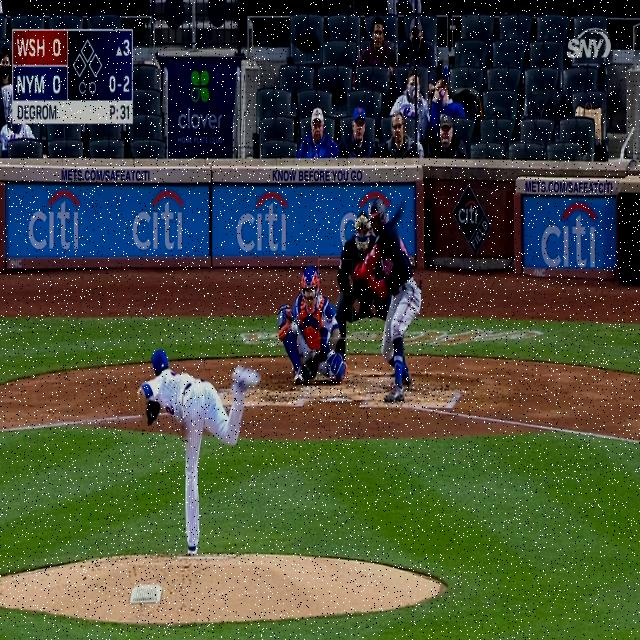baseball: (290, 321, 296, 332)
